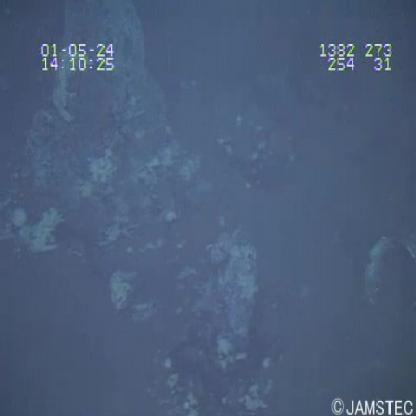Rác: (361, 226, 416, 322)
